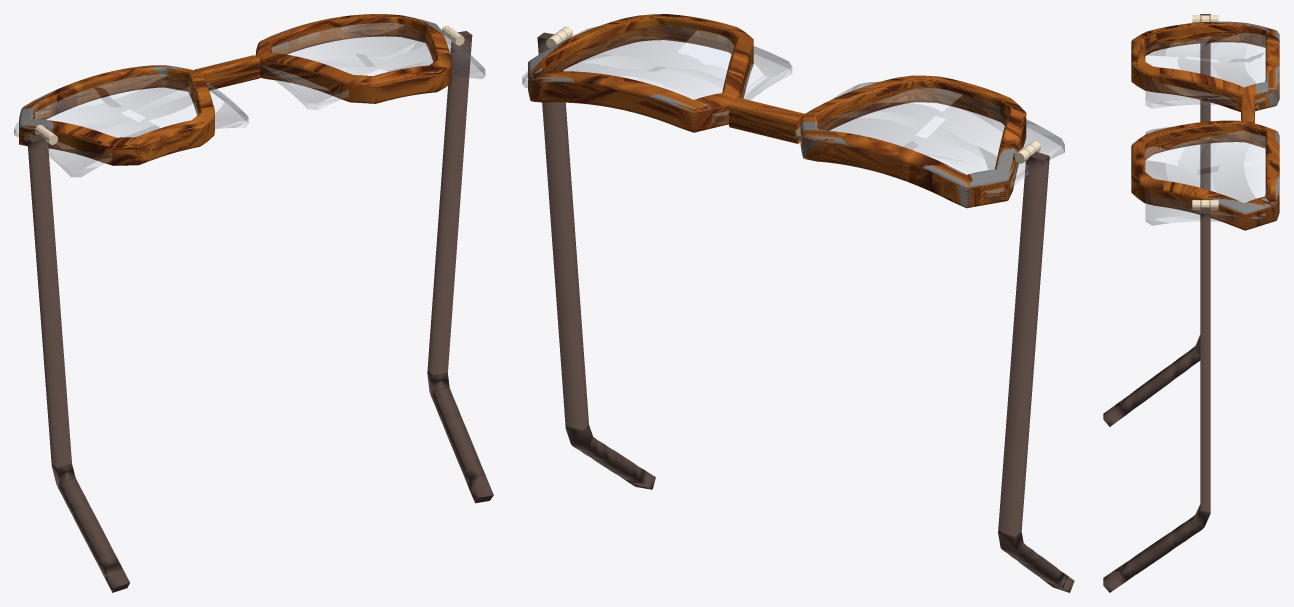
File: aviator.glb
3 renders of one model, left to right at view 1: azimuth 30°, elevation 25°; view 2: azimuth 150°, elevation 25°; view 3: azimuth 270°, elevation 25°, orthographic. The views are drawn at different scales.
Visible parts, largest first — view 1: MEL_eyewear_Frame, MEL_eyewear_TempleL, MEL_eyewear_TempleR, MEL_eyewear_LensL, MEL_eyewear_LensR; view 2: MEL_eyewear_Frame, MEL_eyewear_LensL, MEL_eyewear_TempleR, MEL_eyewear_TempleL, MEL_eyewear_LensR; view 3: MEL_eyewear_Frame, MEL_eyewear_LensR, MEL_eyewear_LensL, MEL_eyewear_TempleL, MEL_eyewear_TempleR.
Part boxes in pixels (x1,y1,x2,y2): MEL_eyewear_Frame: [19, 14, 464, 165]; MEL_eyewear_TempleL: [427, 31, 493, 503]; MEL_eyewear_TempleR: [27, 134, 129, 592]; MEL_eyewear_LensL: [14, 74, 248, 176]; MEL_eyewear_LensR: [255, 23, 485, 109]; MEL_eyewear_Frame: [528, 14, 1040, 208]; MEL_eyewear_LensL: [795, 81, 1064, 200]; MEL_eyewear_TempleR: [998, 151, 1074, 592]; MEL_eyewear_TempleL: [537, 32, 655, 489]; MEL_eyewear_LensR: [522, 24, 792, 123]; MEL_eyewear_Frame: [1131, 15, 1279, 230]; MEL_eyewear_LensR: [1145, 126, 1265, 225]; MEL_eyewear_LensL: [1145, 32, 1265, 108]; MEL_eyewear_TempleL: [1103, 206, 1210, 592]; MEL_eyewear_TempleR: [1103, 14, 1210, 426].
Size of the model in its own units: 0.1336 by 0.1274 by 0.0499.
5 materials, 3 textured.
